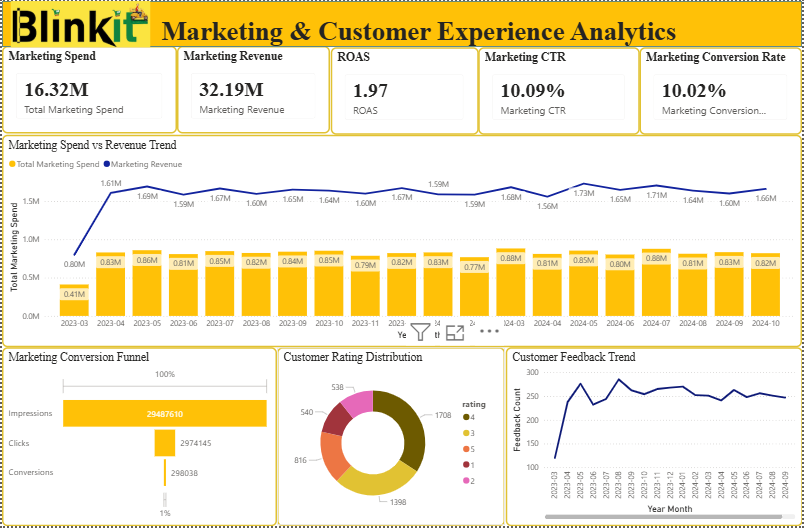

Layout of this report page (visuals, bound fields, positions):
{"tool":"powerbi","page":{"name":"Marketing & Customer Experience Analytics","canvas":[1280,840],"ordinal":4},"visuals":[{"type":"cardVisual","title":"Marketing Spend","fields":{"Data":["DateTable.Total Marketing Spend"]},"box":[0,72.5,280,140],"z":0},{"type":"cardVisual","title":"Marketing Revenue","fields":{"Data":["DateTable.Marketing Revenue"]},"box":[280,72.5,245,140],"z":1000},{"type":"cardVisual","title":"ROAS","fields":{"Data":["DateTable.ROAS"]},"box":[525,73.3,236.7,140],"z":2000},{"type":"cardVisual","title":"Marketing CTR","fields":{"Data":["DateTable.Marketing CTR"]},"box":[761.7,73.3,258.3,140],"z":3000},{"type":"cardVisual","title":"Marketing Conversion Rate","fields":{"Data":["DateTable.Marketing Conversion Rate"]},"box":[1020,73.3,260,140],"z":4000},{"type":"shape","box":[0,0,1280,73.3],"z":5000},{"type":"image","box":[1.7,0,246.7,73.3],"z":6000},{"type":"textbox","box":[250,17.5,852.5,77.5],"z":7000},{"type":"lineClusteredColumnComboChart","title":"Marketing Spend vs Revenue Trend","fields":{"Y":["DateTable.Total Marketing Spend"],"Y2":["DateTable.Marketing Revenue"],"Category":["DateTable.Year Month"]},"box":[0,213.3,1280,340],"z":8000},{"type":"funnel","title":"Marketing Conversion Funnel","fields":{"Y":["Marketing Funnel.Marketing Funnel Value"],"Category":["Marketing Funnel.Stage"]},"box":[0,553.3,440,286.7],"z":9000},{"type":"donutChart","title":"Customer Rating Distribution","fields":{"Y":["Feedback.Feedback Count"],"Category":["Feedback.rating"]},"box":[440,553.3,365,286.7],"z":10000},{"type":"lineChart","title":"Customer Feedback Trend","fields":{"Y":["Feedback.Feedback Count"],"Category":["DateTable.Year Month"]},"box":[805,553.3,475,286.7],"z":11000}]}

Visuals, with their boxes in screenshot pixels (x1, y1, x2, y2), scaled from the page's 1280x840 canvas onto the 805x528 screenshot:
"Marketing Spend" cardVisual: Rect(0, 46, 176, 134)
"Marketing Revenue" cardVisual: Rect(176, 46, 330, 134)
"ROAS" cardVisual: Rect(330, 46, 479, 134)
"Marketing CTR" cardVisual: Rect(479, 46, 641, 134)
"Marketing Conversion Rate" cardVisual: Rect(641, 46, 804, 134)
shape: Rect(0, 0, 804, 46)
image: Rect(1, 0, 156, 46)
textbox: Rect(157, 11, 693, 60)
"Marketing Spend vs Revenue Trend" lineClusteredColumnComboChart: Rect(0, 134, 804, 348)
"Marketing Conversion Funnel" funnel: Rect(0, 348, 277, 527)
"Customer Rating Distribution" donutChart: Rect(277, 348, 506, 527)
"Customer Feedback Trend" lineChart: Rect(506, 348, 804, 527)
